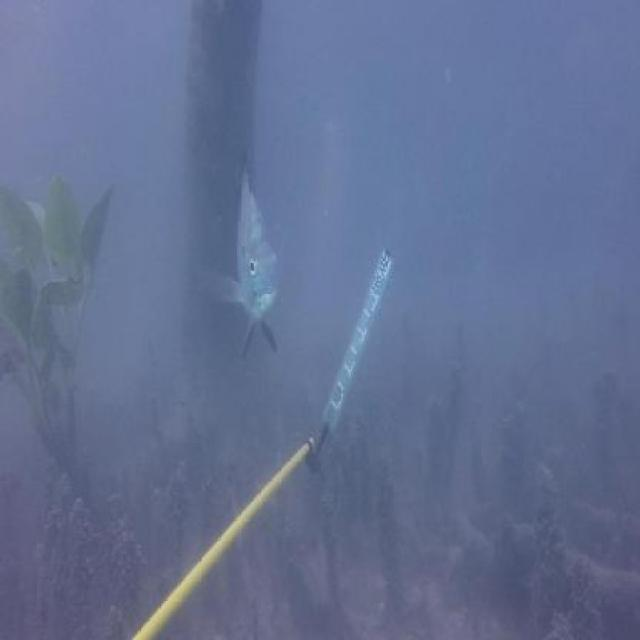acanthopagrus_palmaris: (211, 129, 292, 365)
